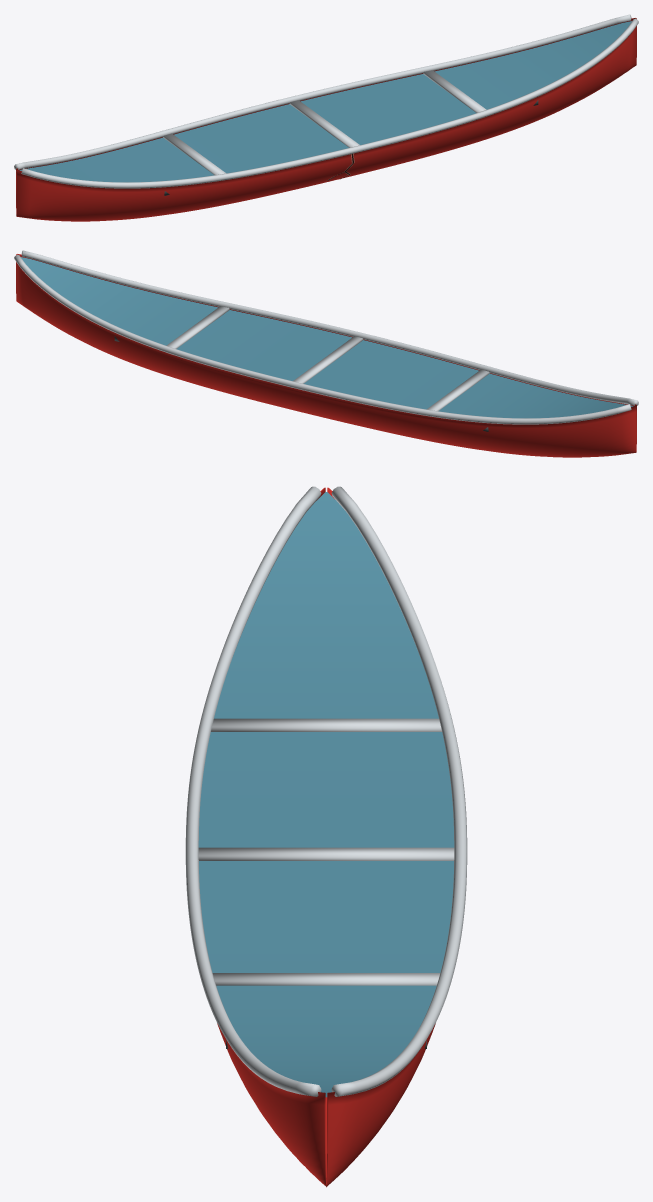
Rendered from canoe_plastic.glb.
3 renders of one model, top to bottom at view 1: azimuth 30°, elevation 25°; view 2: azimuth 150°, elevation 25°; view 3: azimuth 270°, elevation 25°, orthographic. The views are drawn at different scales.
Visible parts, largest first — view 1: water_mask, part_skin, part_frame; view 2: water_mask, part_skin, part_frame; view 3: water_mask, part_frame, part_skin.
Part boxes in pixels (x1=…): water_mask: x1=19, y1=21, x2=631, y2=182; part_skin: x1=16, y1=18, x2=636, y2=221; part_frame: x1=14, y1=14, x2=638, y2=195; water_mask: x1=21, y1=257, x2=633, y2=418; part_skin: x1=16, y1=254, x2=636, y2=457; part_frame: x1=14, y1=250, x2=638, y2=431; water_mask: x1=198, y1=492, x2=454, y2=1097; part_frame: x1=185, y1=486, x2=467, y2=1096; part_skin: x1=217, y1=487, x2=435, y2=1187.
Bounding box in the file's own units: 4.8 × 0.598 × 0.9438.
